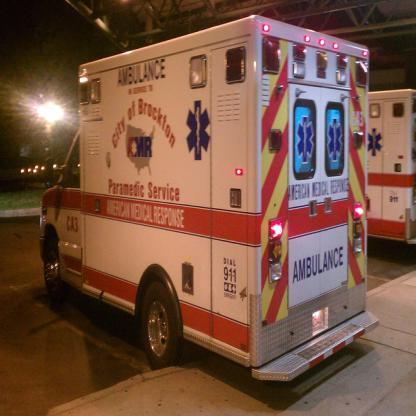ambulance_on: (40, 17, 379, 385)
